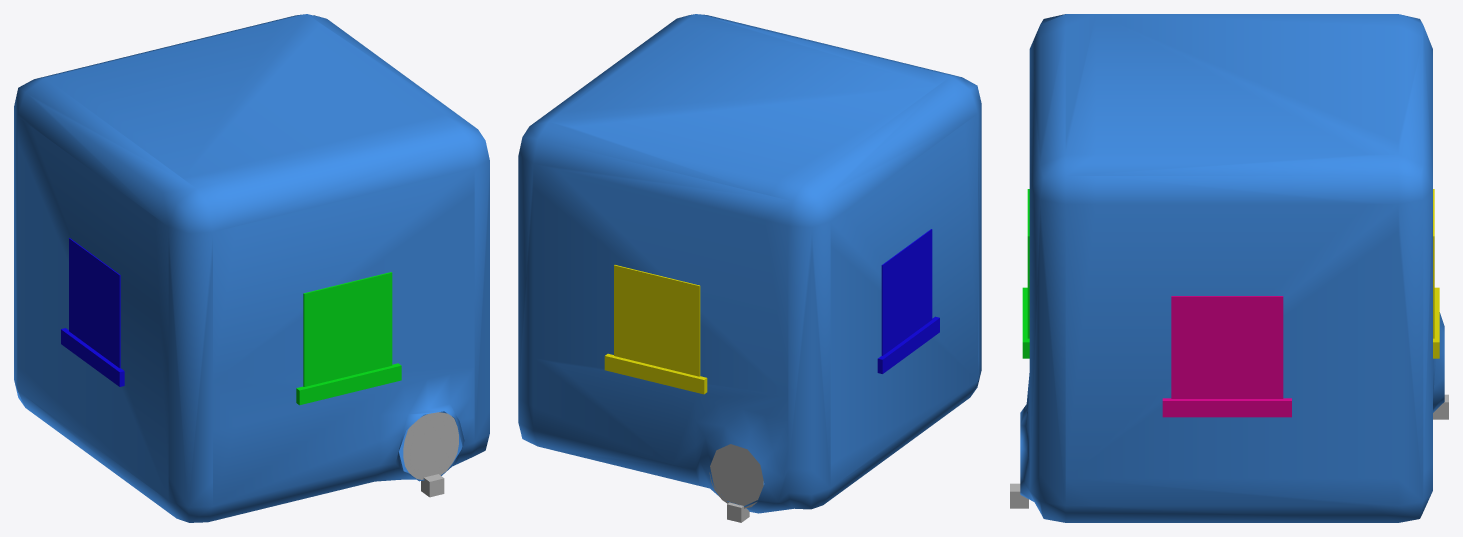
Rendered from MainRoom.fbx.
3 views of the same model, side by side, from view 1: azimuth 30°, elevation 25°; view 2: azimuth 150°, elevation 25°; view 3: azimuth 270°, elevation 25° (orthographic). The views are drawn at different scales.
Parts seen in each view (by area): view 1: MainRoom, Window.001, Window.003, CoridorMedium_Door4.002; view 2: MainRoom, Window.002, Window.003, CoridorMedium_Door4.001; view 3: MainRoom, Window, Window.001, Window.002.
Boxes of the visible parts, <box> form: MainRoom: <box>14,14,489,522</box>; Window.001: <box>296,272,401,405</box>; Window.003: <box>61,238,124,386</box>; CoridorMedium_Door4.002: <box>403,412,458,479</box>; MainRoom: <box>518,14,981,513</box>; Window.002: <box>604,265,707,394</box>; Window.003: <box>877,229,939,373</box>; CoridorMedium_Door4.001: <box>709,444,763,508</box>; MainRoom: <box>1020,14,1444,522</box>; Window: <box>1162,296,1291,417</box>; Window.001: <box>1022,189,1029,358</box>; Window.002: <box>1433,189,1439,358</box>.
Size of the model in its own units: 2208 by 2199 by 2329.
